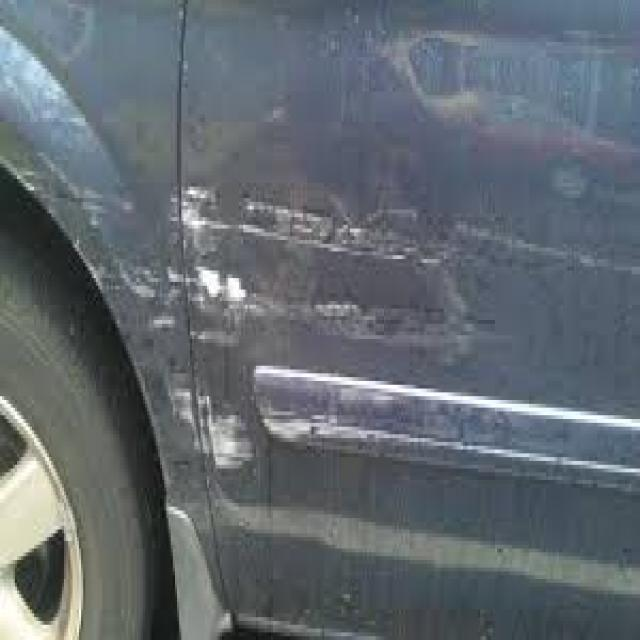minor: (98, 134, 451, 506)
